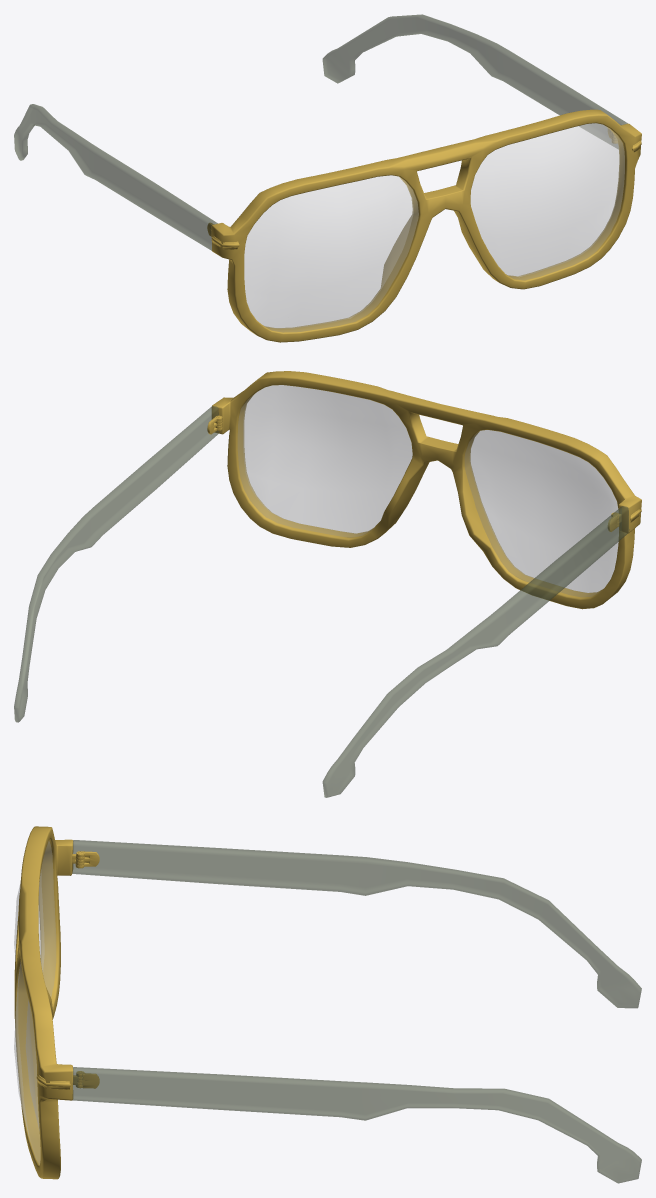
Rendered from panto-ince-altin-metal.glb.
The picture shows the model from 3 angles, top to bottom: view 1: azimuth 30°, elevation 25°; view 2: azimuth 150°, elevation 25°; view 3: azimuth 270°, elevation 25°; orthographic projection. The views are drawn at different scales.
Visible parts, largest first — view 1: OPTIK_PRODUCT_229; view 2: OPTIK_PRODUCT_229; view 3: OPTIK_PRODUCT_229.
Part boxes in pixels (x1,y1,x2,y2): OPTIK_PRODUCT_229: [14, 14, 641, 342]; OPTIK_PRODUCT_229: [14, 371, 641, 797]; OPTIK_PRODUCT_229: [14, 826, 641, 1183].
Size of the model in its own units: 0.1566 by 0.0575 by 0.1785.
